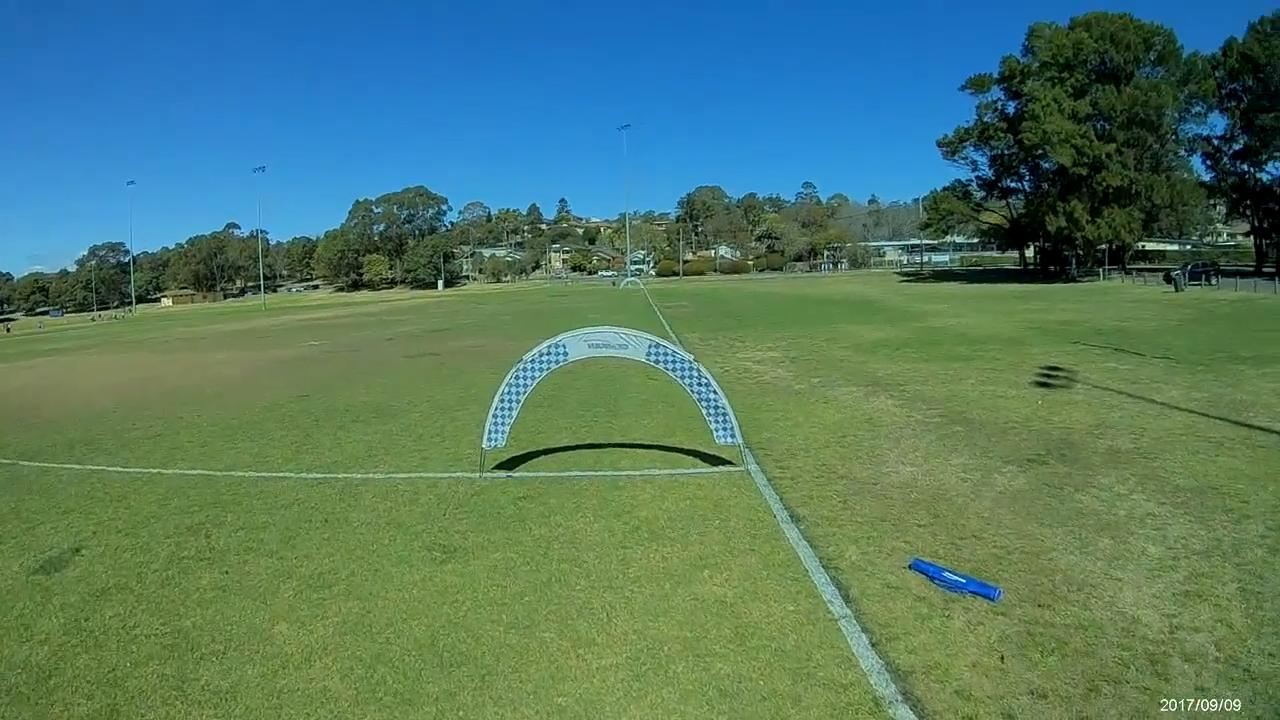gate: (482, 322, 746, 449)
